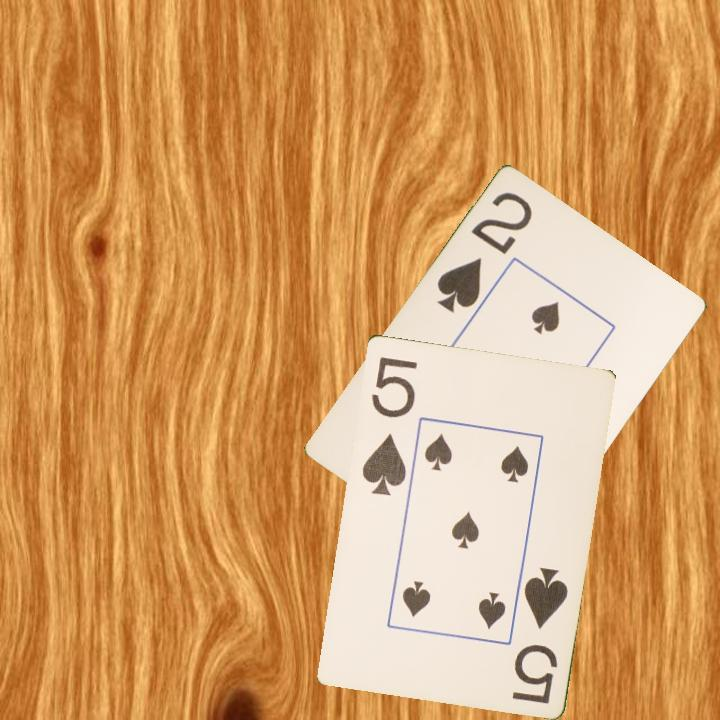2s: (433, 188, 536, 317)
5s: (508, 562, 571, 706), (358, 353, 420, 498)
